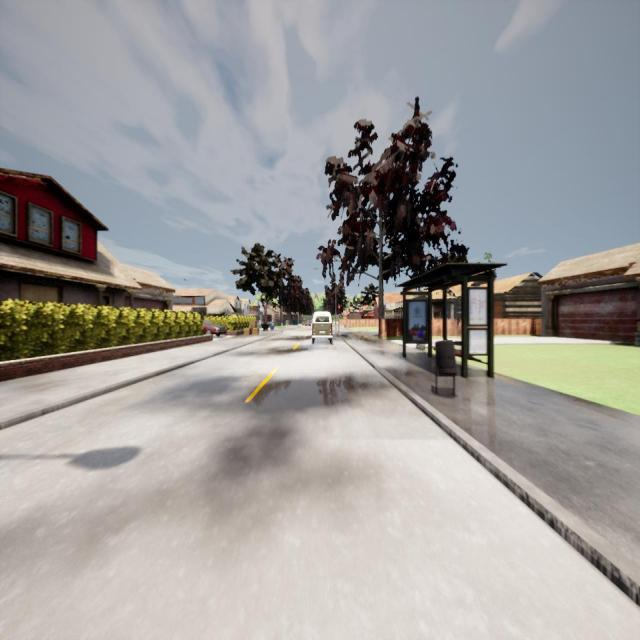Vehicle: (312, 312, 333, 344), (203, 321, 226, 336), (305, 320, 311, 326)
traffic_light: (338, 305, 340, 314)
